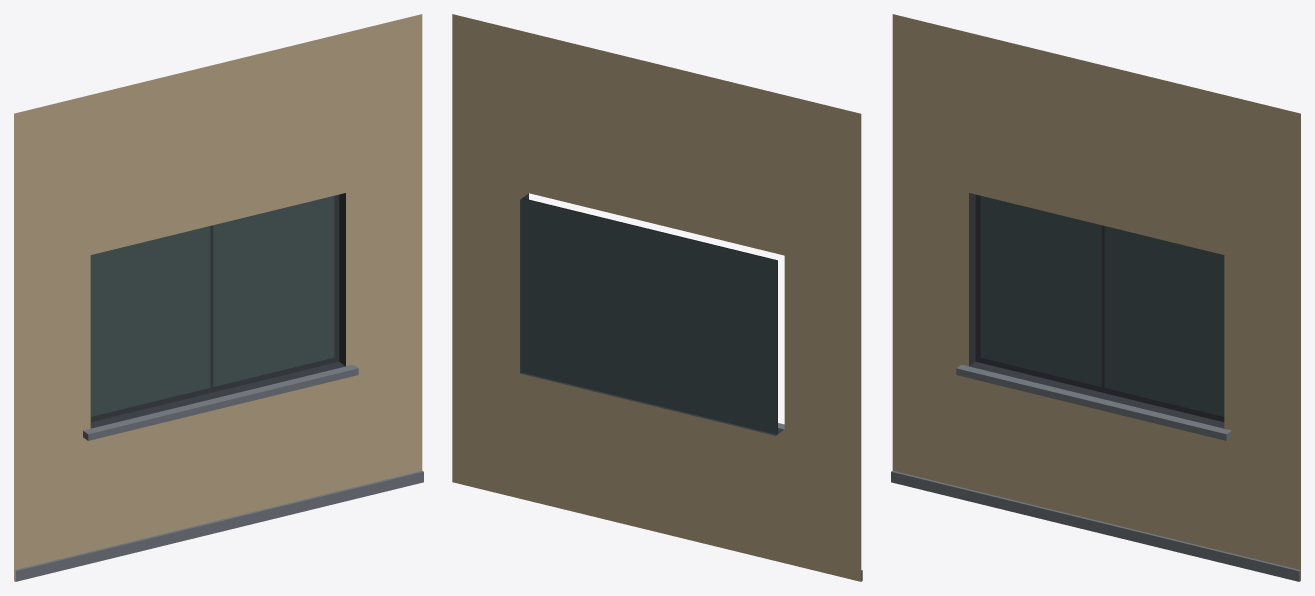
Rendered from top-w3.fbx.
3 views of the same model, side by side, from view 1: azimuth 30°, elevation 25°; view 2: azimuth 150°, elevation 25°; view 3: azimuth 330°, elevation 25° (orthographic).
Parts seen in each view (by area): view 1: a2000/800/top-w3; view 2: a2000/800/top-w3; view 3: a2000/800/top-w3.
Part boxes in pixels (x1,y1,x2,y2): a2000/800/top-w3: (14, 14, 423, 581); a2000/800/top-w3: (452, 14, 862, 581); a2000/800/top-w3: (891, 14, 1300, 581).
Size of the model in its own units: 3.2 by 3.5 by 0.19.
